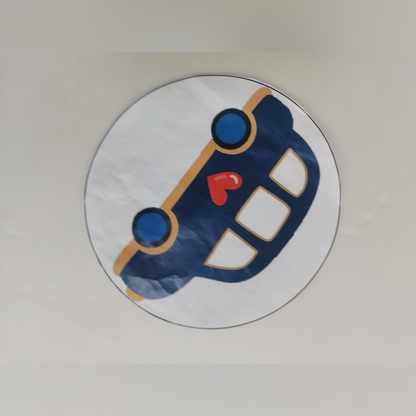car: (107, 84, 331, 304)
